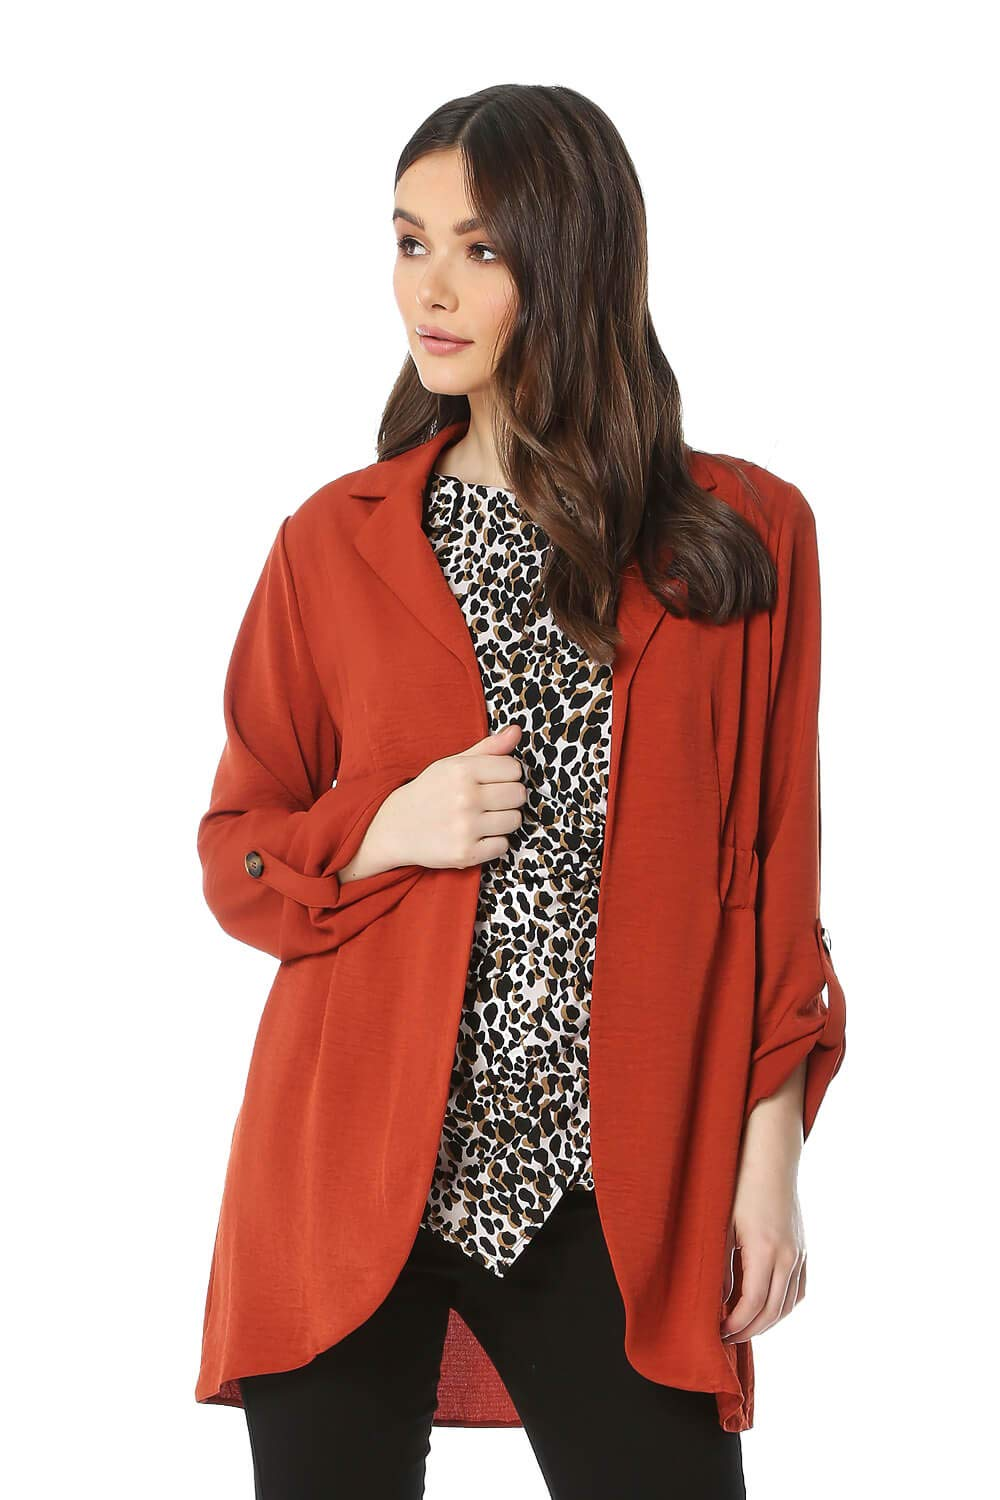F_W_suit jacket: (173, 412, 848, 1390)
